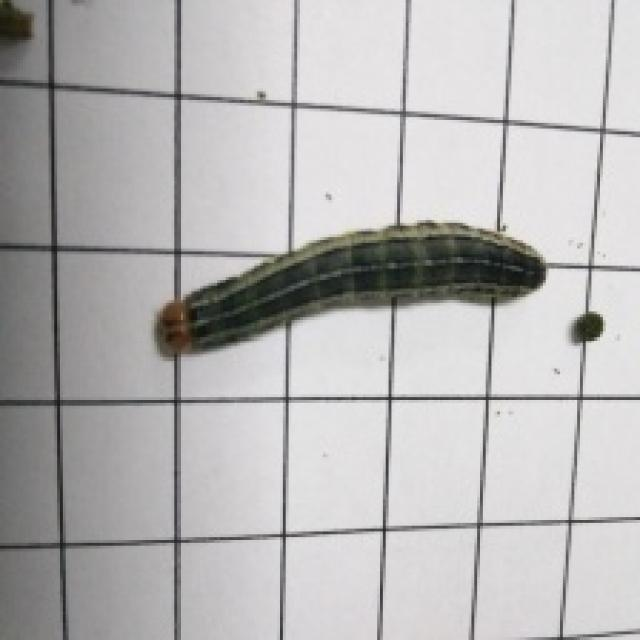armyworm: (138, 204, 553, 364)
